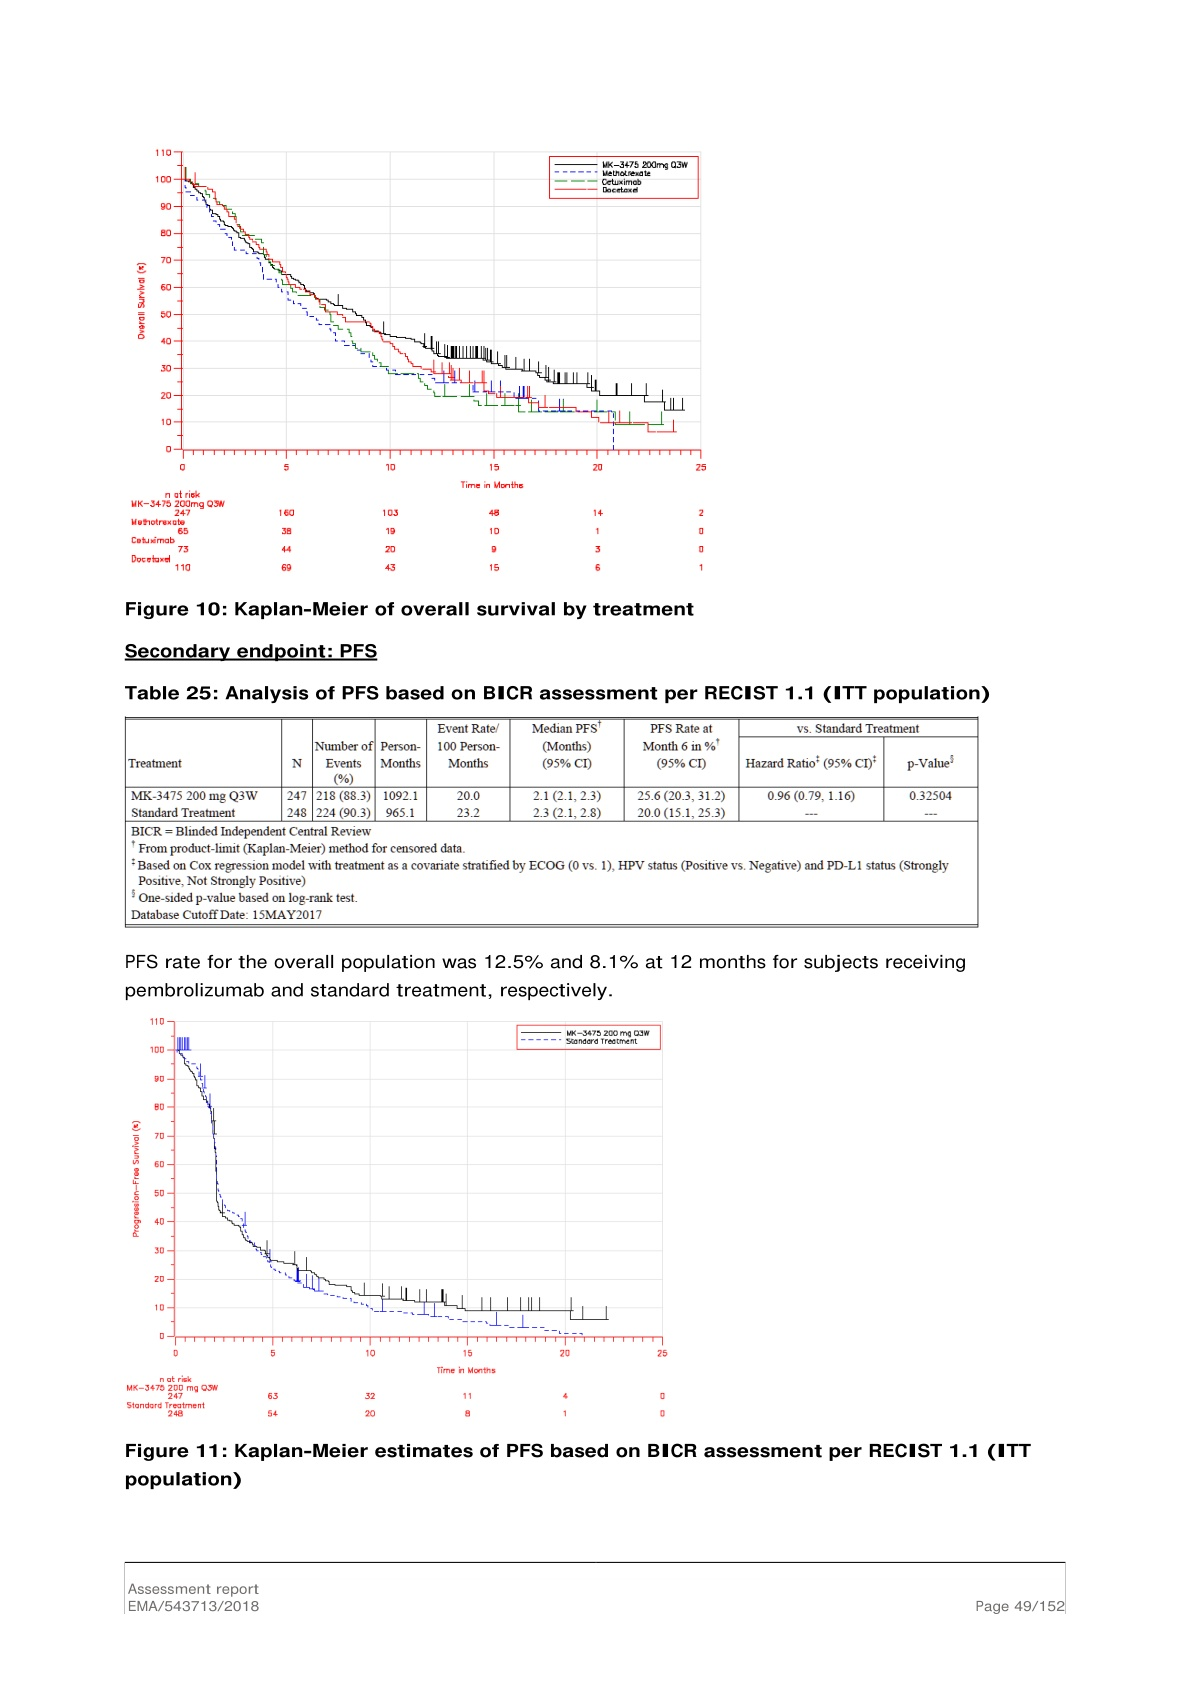merged_cells: (124, 716, 979, 929)
nolines: (130, 498, 704, 572), (126, 1383, 666, 1418)
